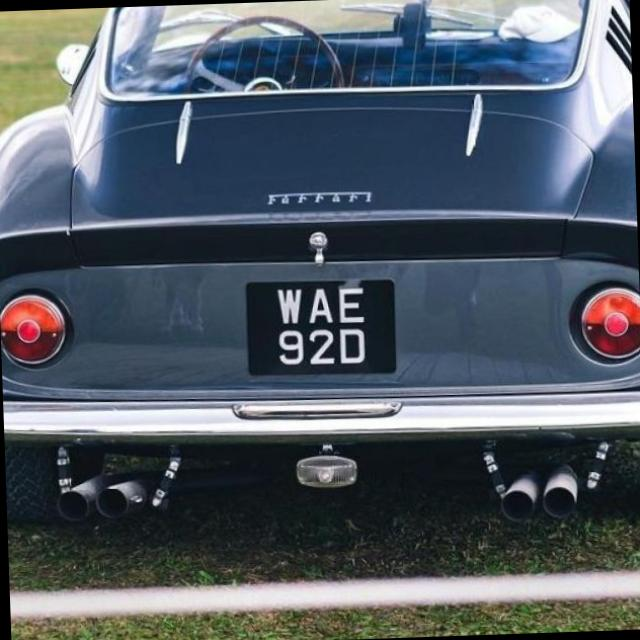LicensePlate: (238, 270, 408, 386)
